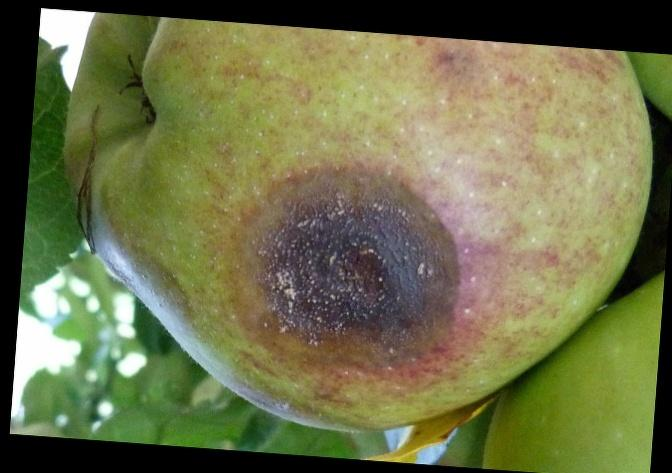rotten apple: (58, 32, 642, 431)
